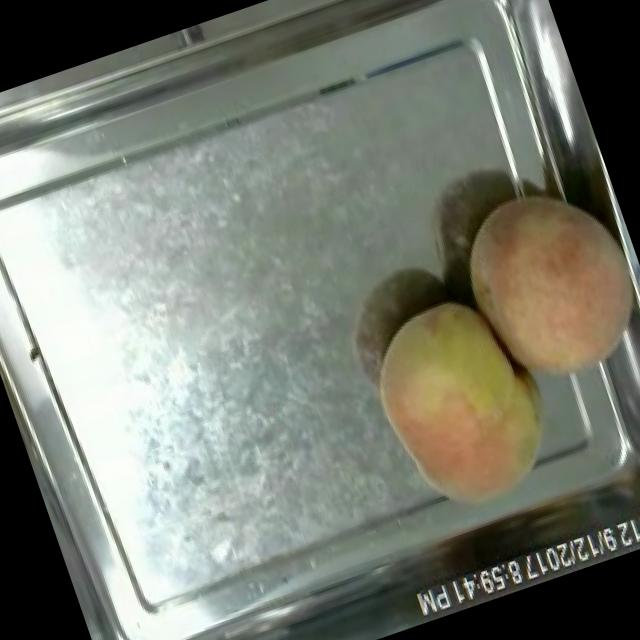Fruit: (346, 274, 576, 536), (435, 164, 640, 412)
